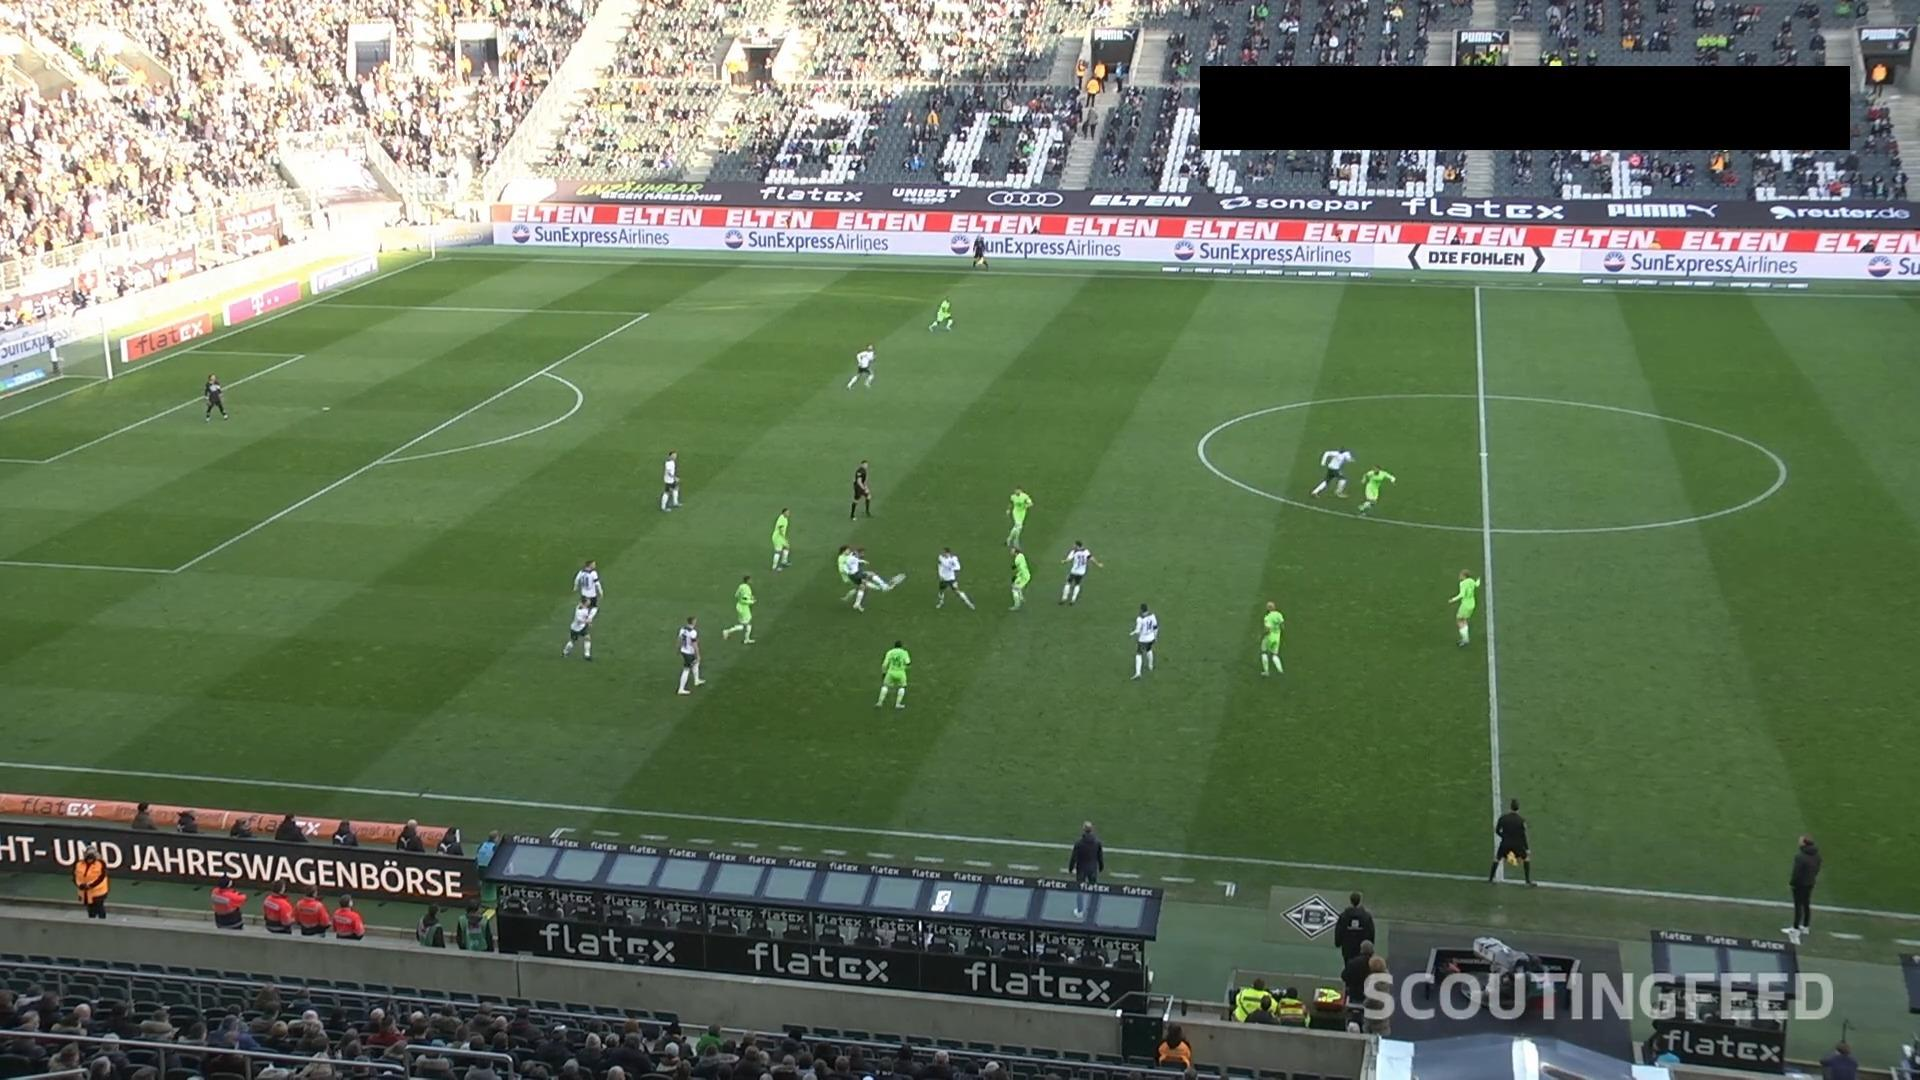coach: (1060, 810, 1116, 908), (1334, 890, 1375, 973), (1788, 833, 1821, 932)
player: (836, 544, 905, 611), (1058, 538, 1102, 604), (934, 546, 975, 610), (720, 573, 756, 644), (874, 639, 911, 708), (1447, 567, 1479, 646), (675, 615, 704, 694), (1310, 446, 1353, 498), (1129, 602, 1158, 679), (561, 596, 596, 659), (836, 544, 869, 608), (1258, 600, 1284, 676), (1356, 464, 1395, 514), (1004, 484, 1032, 551), (573, 558, 603, 616), (1007, 544, 1030, 610), (659, 450, 682, 510), (770, 505, 791, 570), (846, 343, 875, 388), (202, 372, 229, 420), (927, 296, 953, 331)
referee: (1487, 797, 1536, 887), (849, 459, 872, 520), (970, 233, 989, 269)
